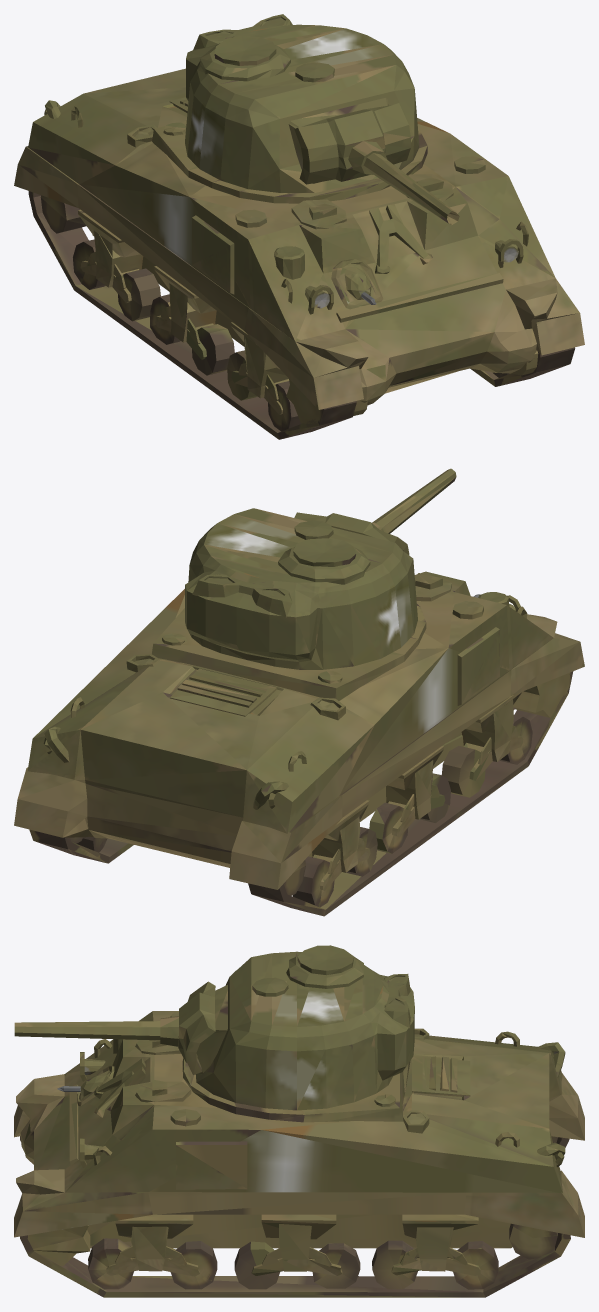
The model's file is sicily_us_armor_0.glb.
3 renders of one model, top to bottom at view 1: azimuth 30°, elevation 25°; view 2: azimuth 150°, elevation 25°; view 3: azimuth 270°, elevation 25°, orthographic. The views are drawn at different scales.
Visible parts, largest first — view 1: geometry_0; view 2: geometry_0; view 3: geometry_0.
Part boxes in pixels (left/top/right/bottom): geometry_0: left=14, top=14, right=584, bottom=439; geometry_0: left=14, top=468, right=584, bottom=916; geometry_0: left=14, top=945, right=584, bottom=1297.
Size of the model in its own units: 0.5357 by 0.5346 by 1.05.
Materials: 1 (1 with a texture image).
